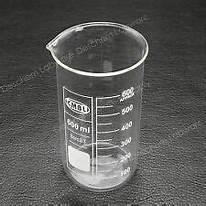Beaker: (42, 22, 152, 195)
